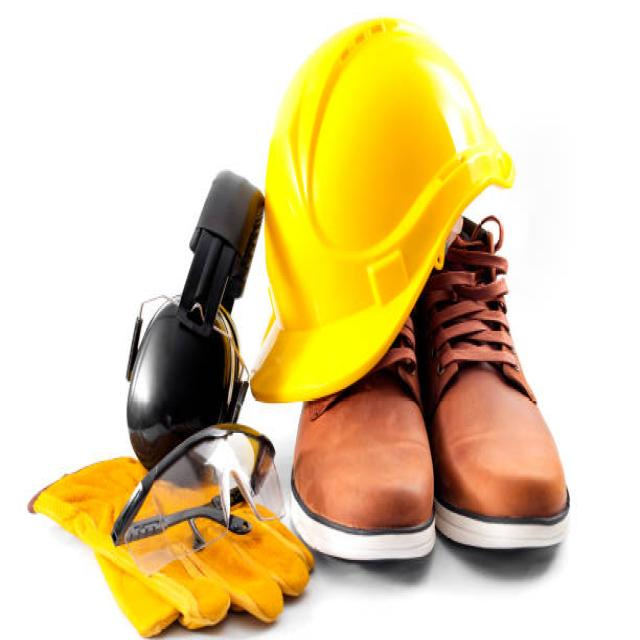Gloves: (24, 446, 321, 640)
helmet: (244, 10, 522, 410)
